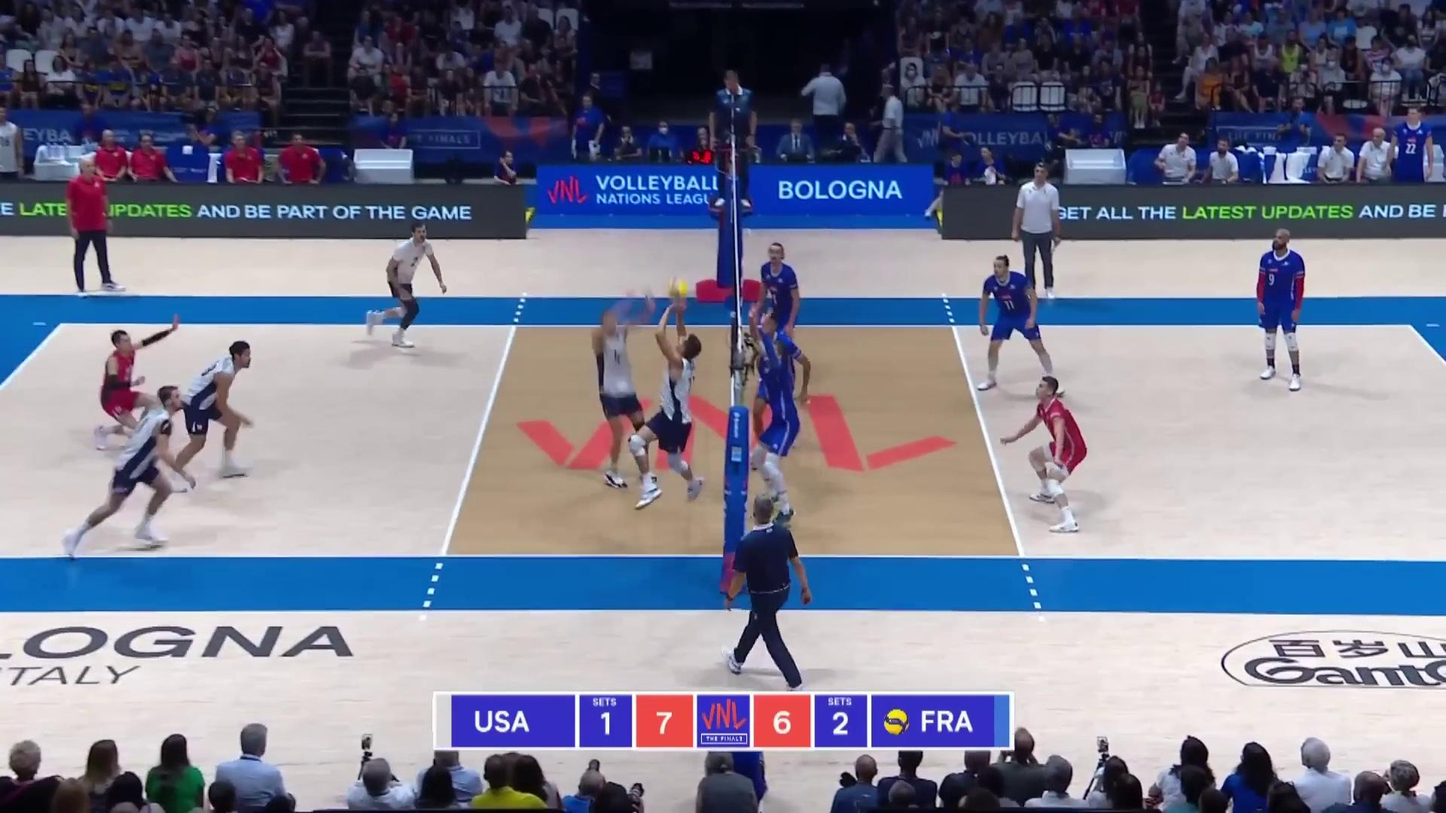player: (65, 385, 190, 550), (1002, 376, 1086, 538), (639, 328, 712, 509), (169, 341, 252, 487), (971, 258, 1056, 392), (749, 339, 809, 528), (595, 296, 651, 496), (96, 320, 179, 448), (369, 226, 453, 352), (752, 315, 811, 463), (1254, 230, 1309, 387), (751, 243, 809, 351)
refree: (729, 489, 816, 681), (713, 71, 761, 208)
